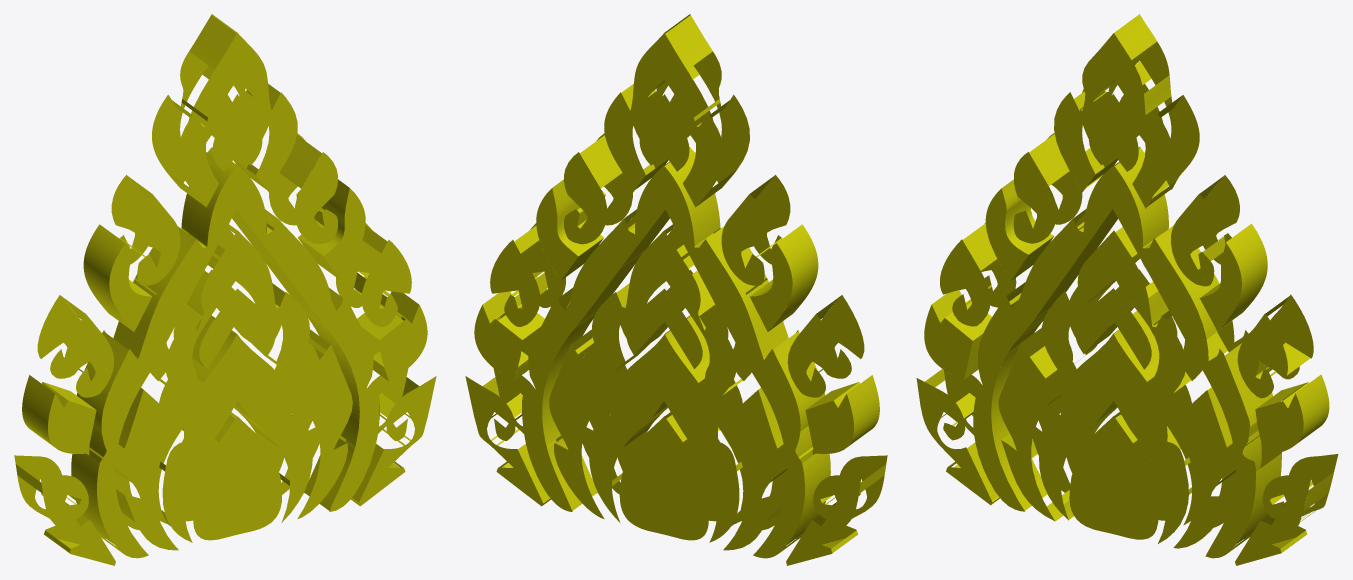
The model's file is md_namo_laithai1.glb.
3 views of the same model, side by side, from view 1: azimuth 30°, elevation 25°; view 2: azimuth 150°, elevation 25°; view 3: azimuth 330°, elevation 25° (orthographic).
Parts seen in each view (by area): view 1: Layer:Layer 1, Layer:Layer 1_20 - Default_0.001; view 2: Layer:Layer 1, Layer:Layer 1_20 - Default_0.001; view 3: Layer:Layer 1, Layer:Layer 1_20 - Default_0.001.
Part boxes in pixels (box(x1,y1,x2,y2)): Layer:Layer 1: box(14, 14, 436, 565); Layer:Layer 1_20 - Default_0.001: box(22, 14, 427, 538); Layer:Layer 1: box(465, 14, 887, 565); Layer:Layer 1_20 - Default_0.001: box(474, 33, 879, 558); Layer:Layer 1: box(916, 14, 1338, 565); Layer:Layer 1_20 - Default_0.001: box(932, 41, 1329, 538).
Size of the model in its own units: 16.01 by 19.43 by 1.8.
